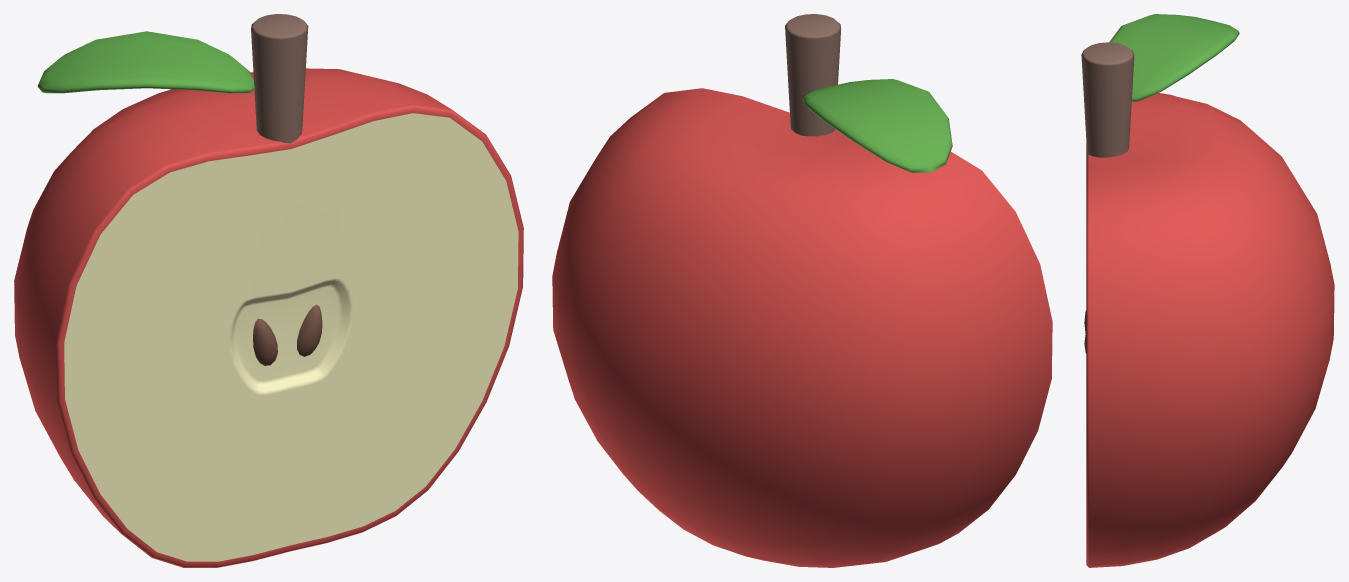
File: Apple_Red_Half_1.fbx
The picture shows the model from 3 angles, left to right: view 1: azimuth 30°, elevation 25°; view 2: azimuth 150°, elevation 25°; view 3: azimuth 270°, elevation 25°; orthographic projection. The views are drawn at different scales.
Visible parts, largest first — view 1: Apple_Red_Half_1; view 2: Apple_Red_Half_1; view 3: Apple_Red_Half_1.
Boxes of the visible parts, x1,y1,x2,y2 form: Apple_Red_Half_1: [14, 14, 523, 567]; Apple_Red_Half_1: [552, 14, 1052, 567]; Apple_Red_Half_1: [1081, 14, 1334, 567].
Size of the model in its own units: 13.44 by 14.27 by 6.86.
